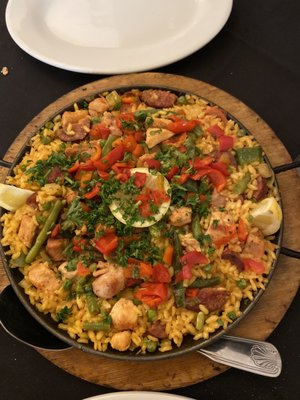curry: (1, 1, 299, 370)
sandwich: (1, 83, 285, 373)
